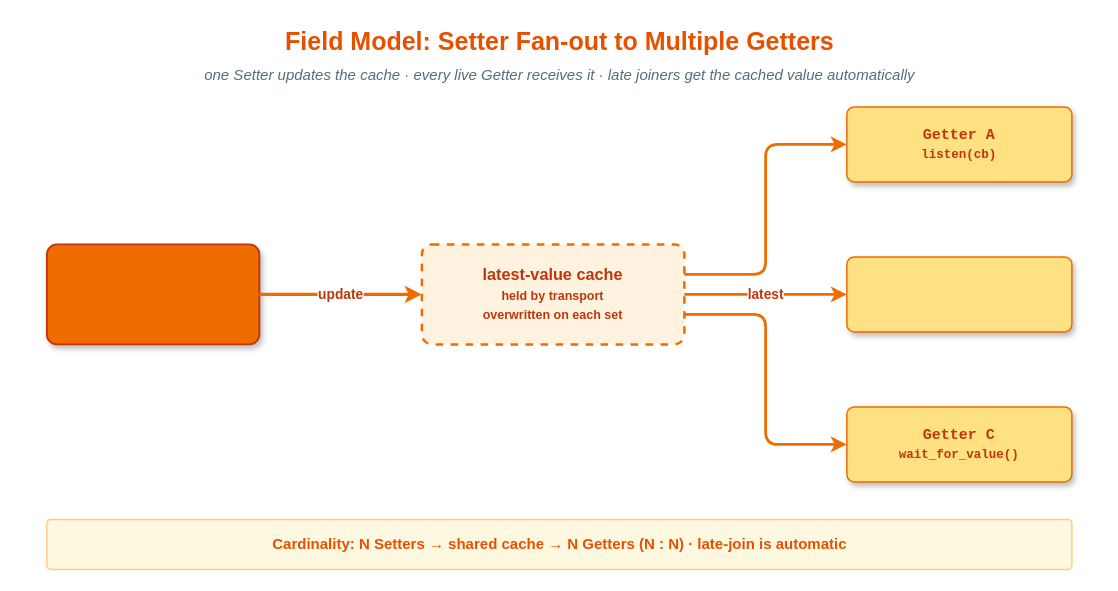
The diagram is 1118 pixels wide and 591 high, and some of its shapes have lost their labels. The shapes that lost their labels are listed below. From the top down, each one's centre as x and y in pixels, then its label:
At (153,296): "Setter<T> set(value)".
At (960,295): "Getter B get()".
